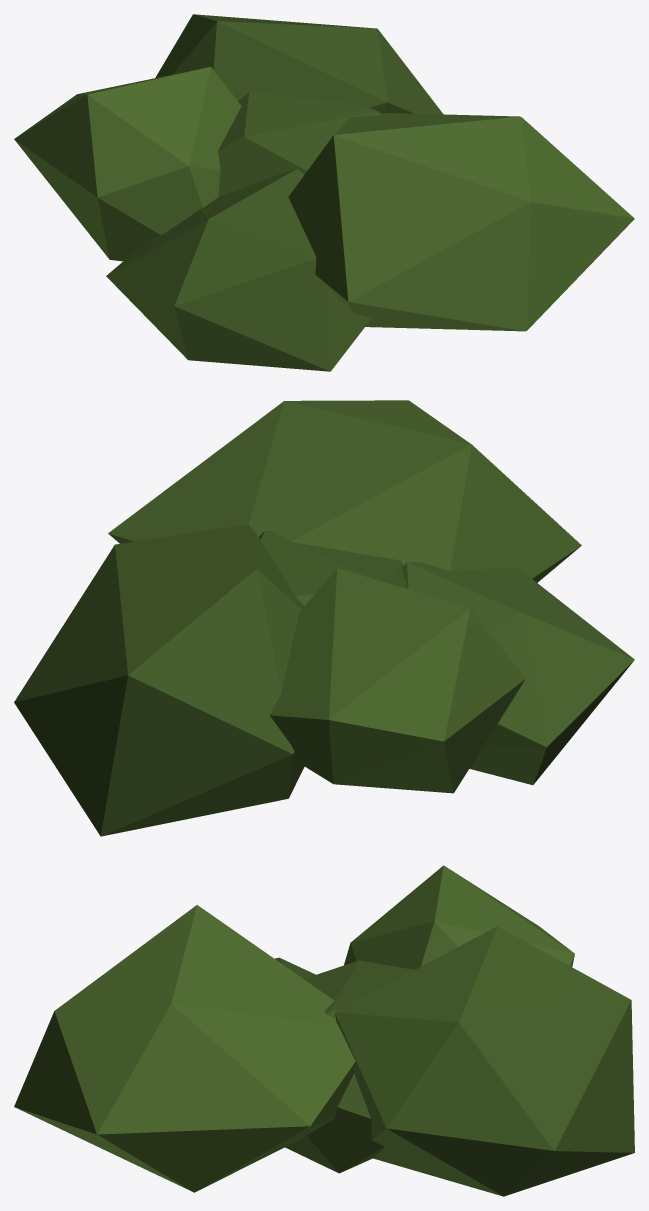
Rendered from e4a_busk.glb.
3 renders of one model, top to bottom at view 1: azimuth 30°, elevation 25°; view 2: azimuth 150°, elevation 25°; view 3: azimuth 270°, elevation 25°, orthographic. The views are drawn at different scales.
Parts seen in each view (by area): view 1: E4_busk_a; view 2: E4_busk_a; view 3: E4_busk_a.
Part boxes in pixels (left/top/right/bottom): E4_busk_a: left=14, top=14, right=634, bottom=371; E4_busk_a: left=14, top=400, right=634, bottom=836; E4_busk_a: left=14, top=865, right=634, bottom=1196.
Size of the model in its own units: 1.56 by 0.8631 by 2.08.
